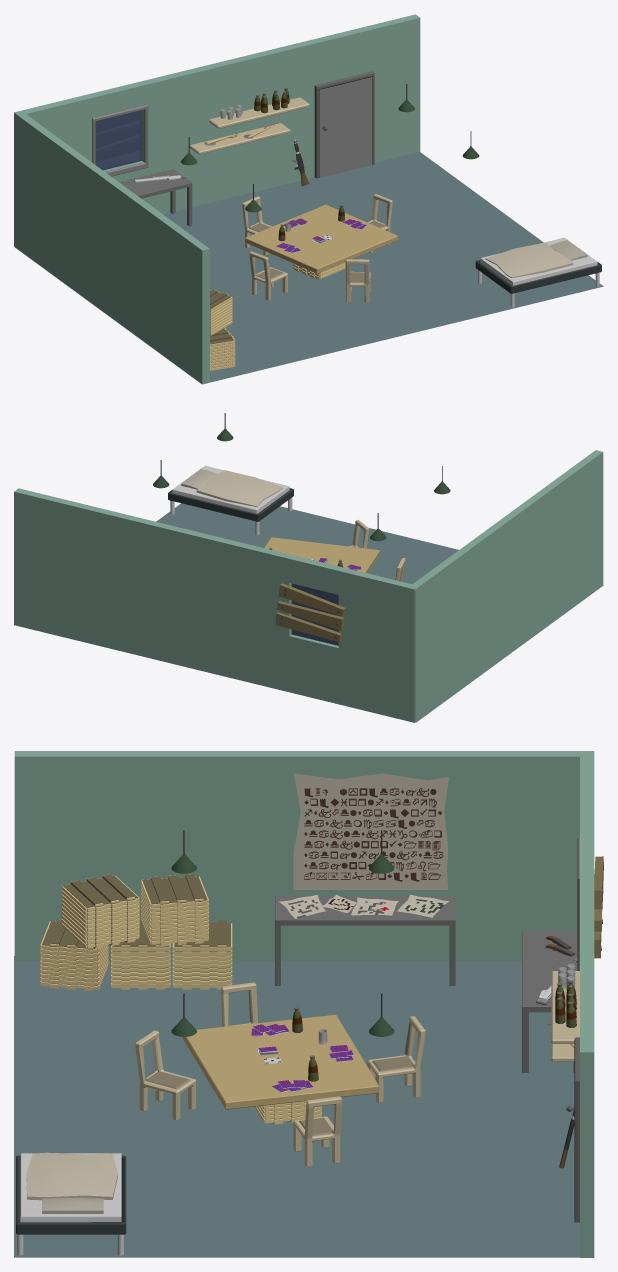
Rendered from AvaUnterschlupf.fbx.
The picture shows the model from 3 angles, top to bottom: view 1: azimuth 30°, elevation 25°; view 2: azimuth 150°, elevation 25°; view 3: azimuth 270°, elevation 25°; orthographic projection. The views are drawn at different scales.
Visible parts, largest first — view 1: Boden, Wand, Wand2, Tür, TischPlatte, BettGestellBase, Decke, KleinerTisch, regal1, FensterRahmen, HolzKiste2, regal (+5 smaller); view 2: Wand, Wand2, Boden, BettGestellBase, TischPlatte, Decke, pCube67, pCube68, pCube66, Kissen; view 3: Boden, Wand2, pPlane1, TischPlatte, Wand, typeMesh1, HolzKiste3, HolzKiste4, BettGestellBase, Decke, KleinerTisch1, KleinerTisch (+14 smaller).
Part boxes in pixels (x1,y1,x2,y2): Boden: (14,151,603,384); Wand: (14,14,420,245); Wand2: (14,113,209,384); Tür: (314,71,374,178); TischPlatte: (245,204,397,273); BettGestellBase: (475,237,601,293); Decke: (485,242,573,278); KleinerTisch: (119,169,192,226); regal1: (189,123,290,154); FensterRahmen: (92,104,148,176); HolzKiste2: (210,327,235,370); regal: (209,97,309,128); Wand: (14,488,419,722); Wand2: (413,450,603,722); Boden: (156,503,603,722); BettGestellBase: (168,465,293,521); TischPlatte: (264,537,379,573); Decke: (196,470,282,506); pCube67: (278,583,345,616); pCube68: (277,601,344,630); pCube66: (275,612,342,642); Kissen: (181,469,217,489); Boden: (14,956,579,1257); Wand2: (14,751,579,961); pPlane1: (293,773,449,889); TischPlatte: (182,1015,379,1109); Wand: (580,751,594,1257); typeMesh1: (304,788,443,881); HolzKiste3: (61,874,139,948); HolzKiste4: (141,874,208,946); BettGestellBase: (16,1153,126,1234); Decke: (26,1152,117,1200); KleinerTisch1: (275,896,455,985); KleinerTisch: (522,930,577,1072).
Size of the model in its own units: 38.12 by 12.15 by 31.49.
